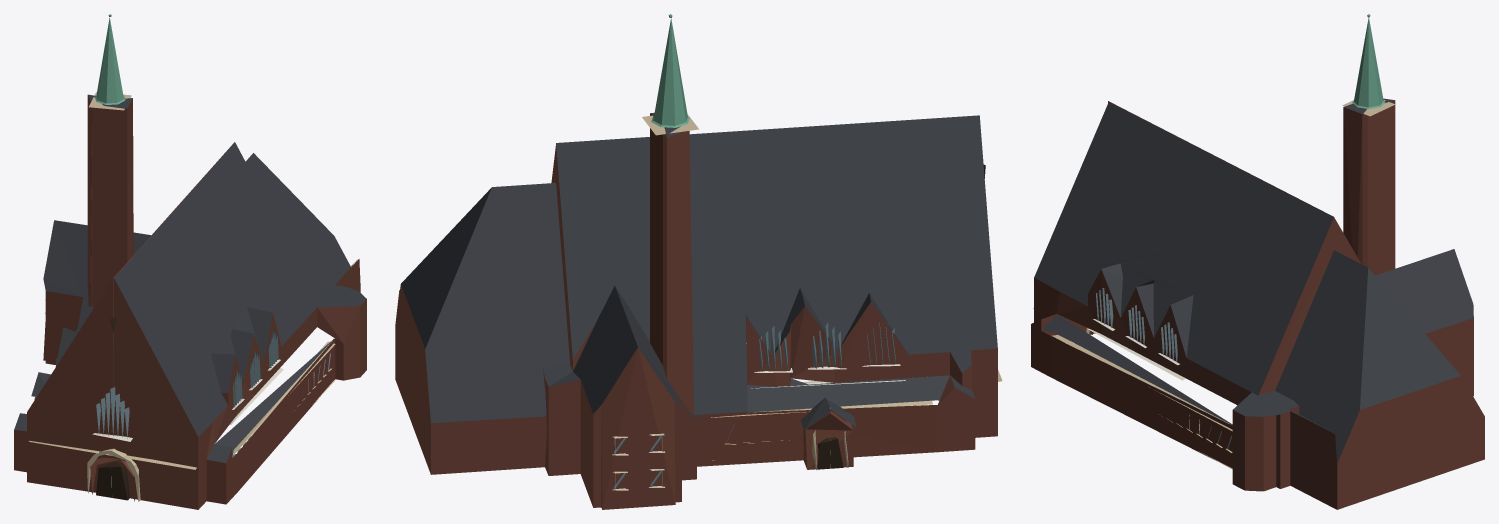
The model's file is vrijburg.lod1.glb.
3 views of the same model, side by side, from view 1: azimuth 30°, elevation 25°; view 2: azimuth 150°, elevation 25°; view 3: azimuth 270°, elevation 25° (orthographic). The views are drawn at different scales.
Visible parts, largest first — view 1: vrijburg; view 2: vrijburg; view 3: vrijburg.
Part boxes in pixels (bbox=[...]): vrijburg: bbox=[14, 14, 366, 509]; vrijburg: bbox=[395, 14, 1002, 509]; vrijburg: bbox=[1031, 14, 1484, 509].
Size of the model in its own units: 42.83 by 36.07 by 39.48.
